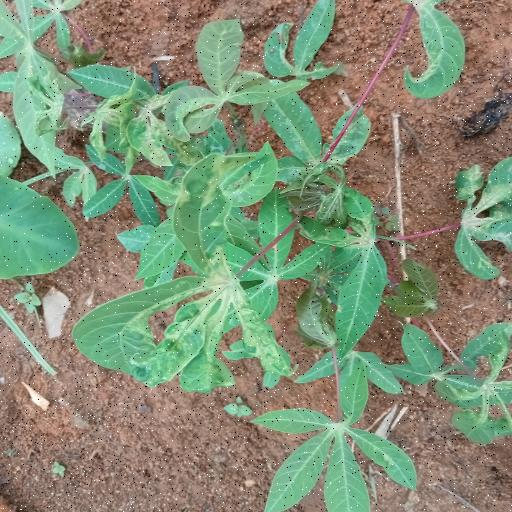Cassava_Mosaic: (86, 145, 286, 397), (258, 361, 409, 512), (166, 24, 310, 122), (457, 162, 512, 282)
